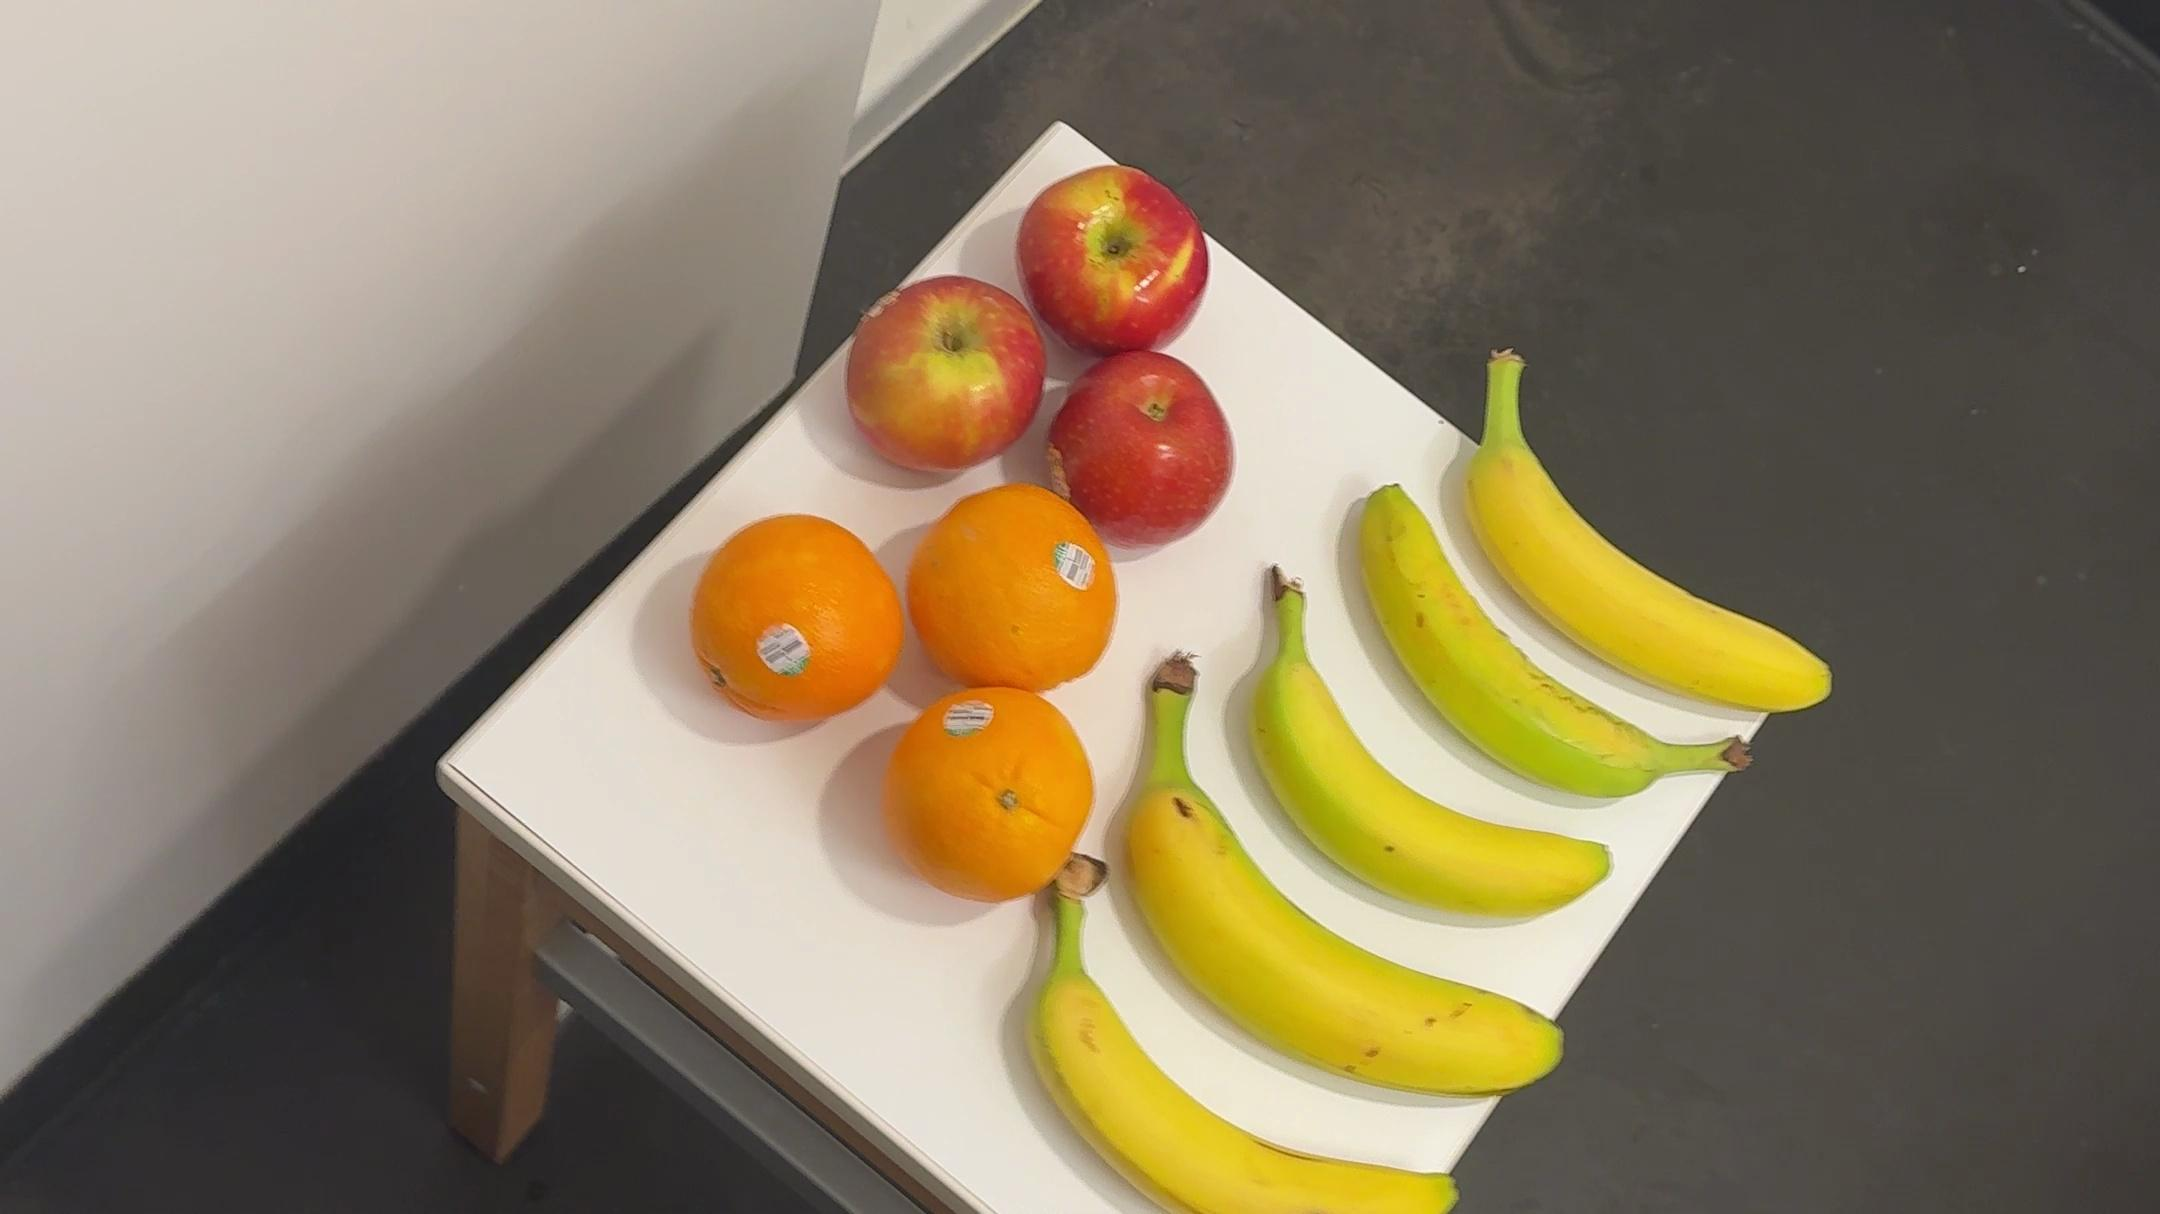apple: (1003, 159, 1227, 358), (849, 272, 1043, 473), (1041, 347, 1228, 557)
banana: (1096, 637, 1578, 1106), (1003, 862, 1461, 1214), (1199, 571, 1621, 922), (1452, 341, 1837, 724), (1343, 485, 1762, 804)
orange: (905, 488, 1129, 708), (685, 516, 902, 732), (892, 686, 1096, 907)
